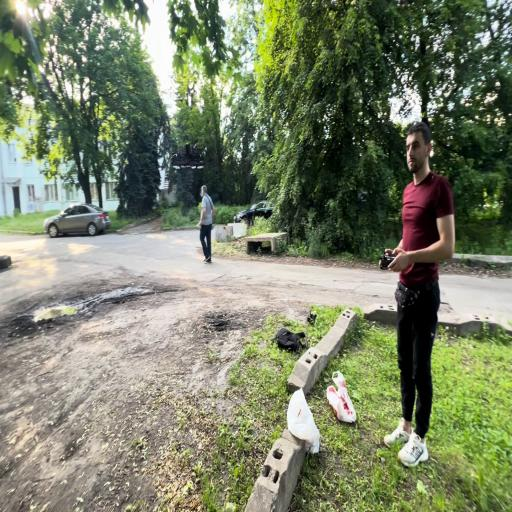drone: (170, 142, 208, 171)
